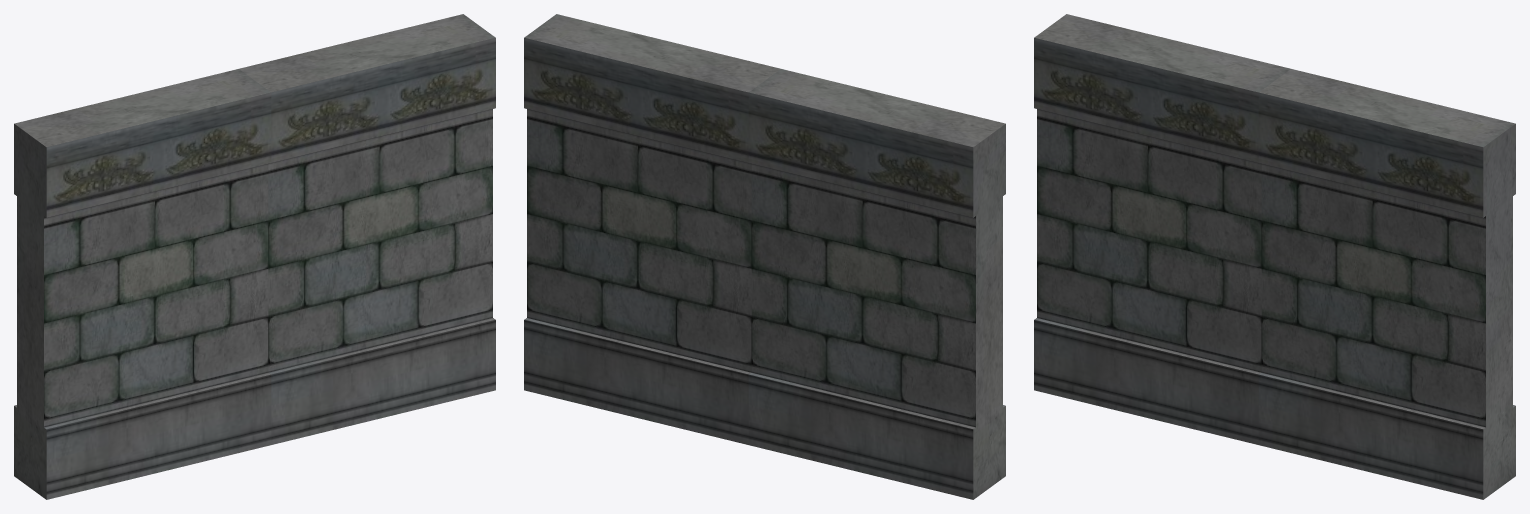
Rendered from wall_large_01.glb.
The picture shows the model from 3 angles, left to right: view 1: azimuth 30°, elevation 25°; view 2: azimuth 150°, elevation 25°; view 3: azimuth 330°, elevation 25°; orthographic projection.
Parts seen in each view (by area): view 1: wall_large_01; view 2: wall_large_01; view 3: wall_large_01.
Part boxes in pixels (x1,y1,x2,y2): wall_large_01: (14, 14, 495, 499); wall_large_01: (524, 14, 1005, 499); wall_large_01: (1034, 14, 1515, 499).
Bounding box in the file's own units: 4 × 3 × 0.5.
1 material, 1 textured.
